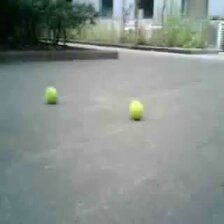tennis: (128, 99, 143, 120), (44, 85, 57, 102)
